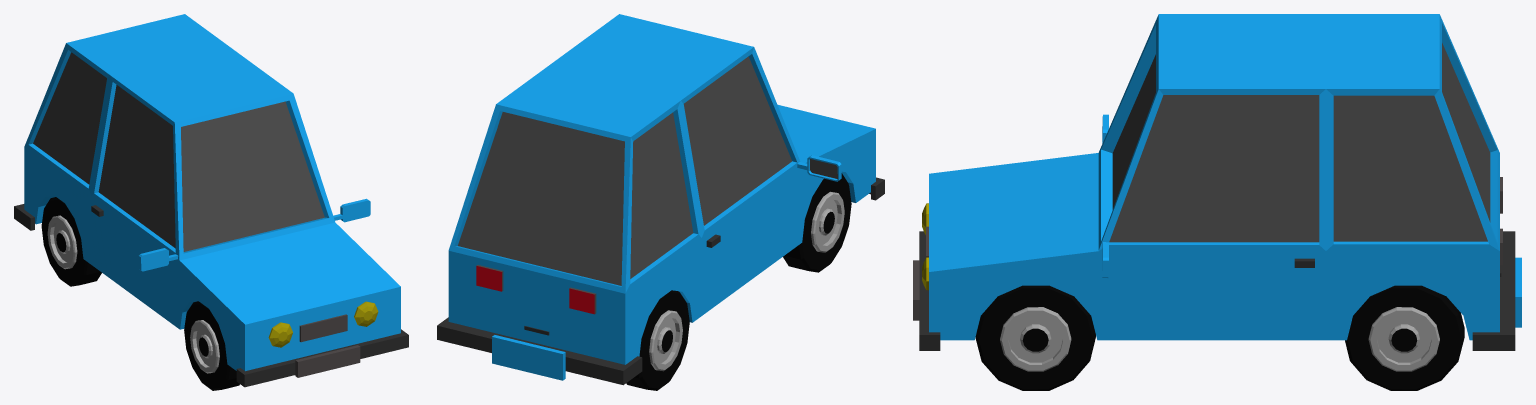
Rendered from Generic_Car.fbx.
3 renders of one model, left to right at view 1: azimuth 30°, elevation 25°; view 2: azimuth 150°, elevation 25°; view 3: azimuth 270°, elevation 25°, orthographic. The views are drawn at different scales.
Parts seen in each view (by area): view 1: Car; view 2: Car; view 3: Car.
Boxes of the visible parts, bbox=[...] form: Car: bbox=[14, 14, 408, 390]; Car: bbox=[437, 14, 884, 390]; Car: bbox=[913, 14, 1521, 390].
Size of the model in its own units: 3.03 by 2.86 by 5.39.
